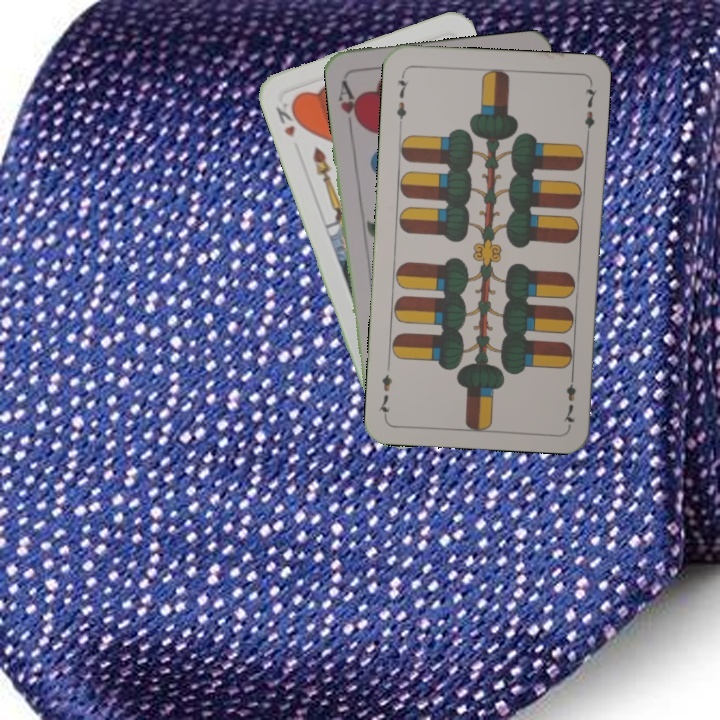E7: (392, 69, 412, 128), (559, 368, 578, 428)
HA: (334, 76, 364, 133)
HK: (271, 97, 304, 140)
